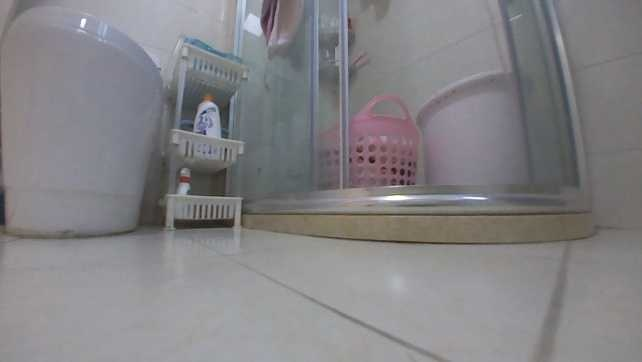toilet: (0, 2, 169, 239)
